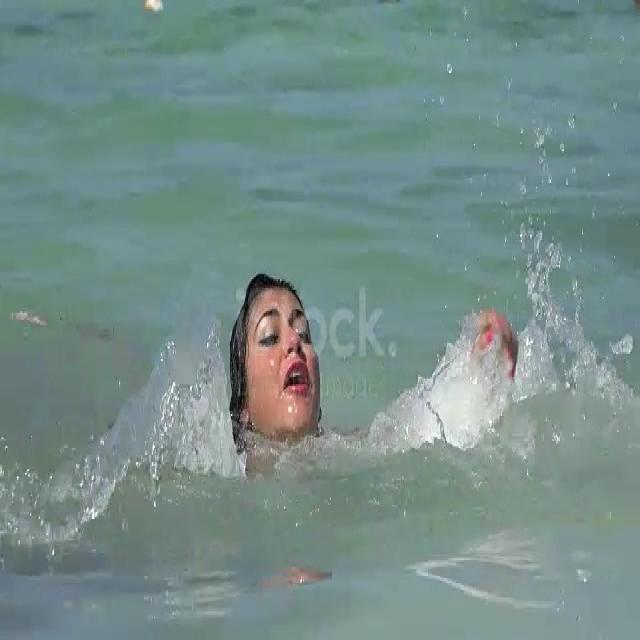Out of Water: (226, 264, 331, 505)
